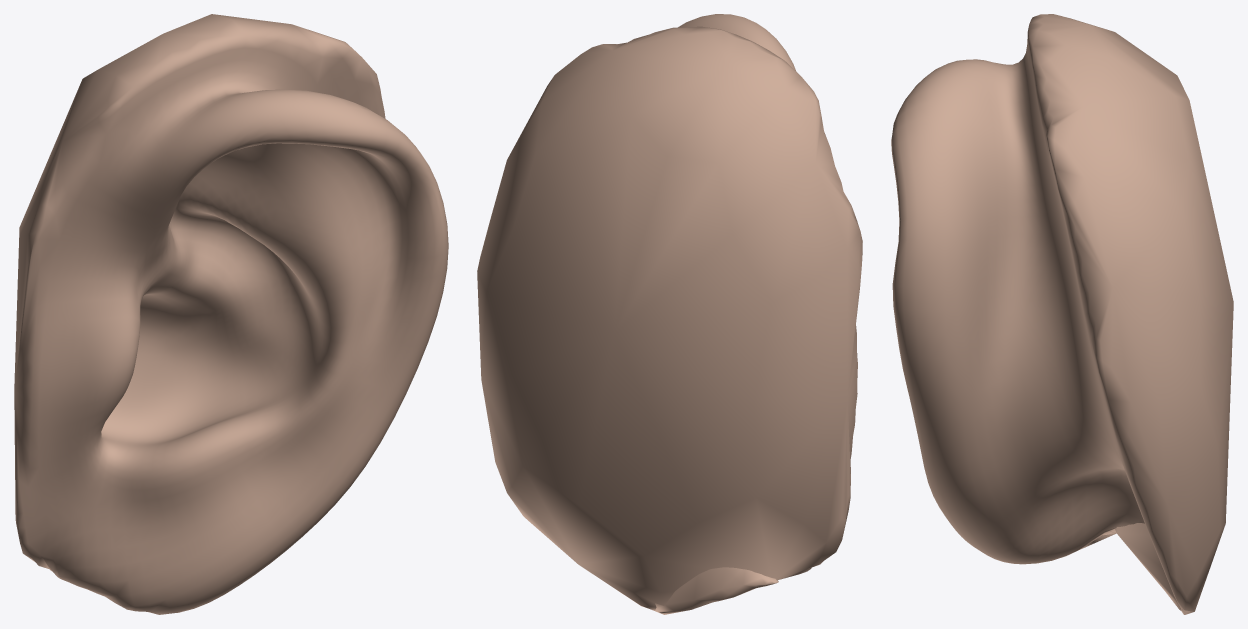
The model's file is ear-02.glb.
3 renders of one model, left to right at view 1: azimuth 30°, elevation 25°; view 2: azimuth 150°, elevation 25°; view 3: azimuth 270°, elevation 25°, orthographic. The views are drawn at different scales.
Parts seen in each view (by area): view 1: ear-02; view 2: ear-02; view 3: ear-02.
Boxes of the visible parts, x1=… form: ear-02: x1=14, y1=14, x2=448, y2=614; ear-02: x1=477, y1=14, x2=862, y2=614; ear-02: x1=891, y1=14, x2=1233, y2=614.
Size of the model in its own units: 2.03 by 2.92 by 1.55.
